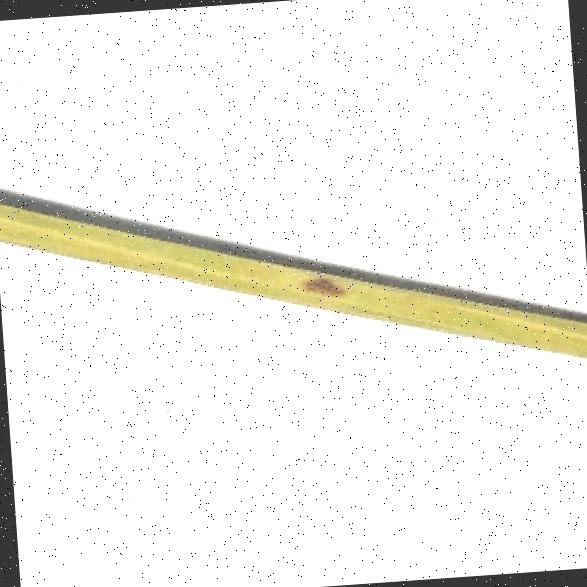Leaf_smut: (284, 262, 362, 314)
